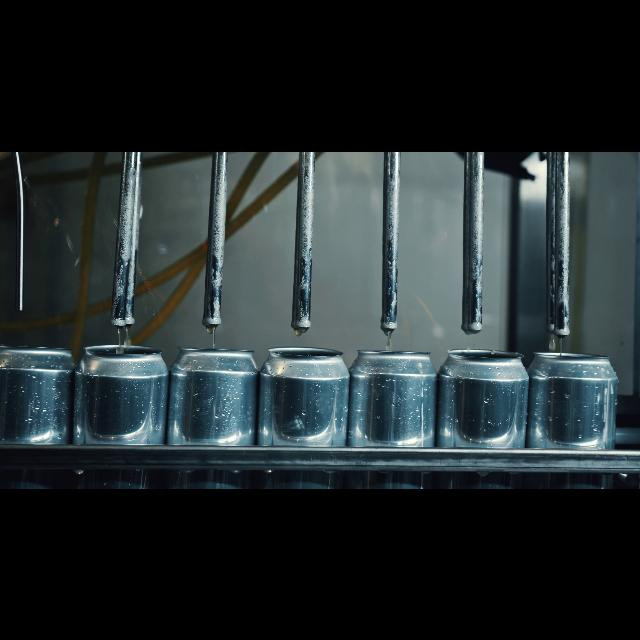empty: (79, 336, 163, 488), (351, 336, 432, 488), (174, 336, 253, 488), (538, 336, 616, 488), (265, 334, 341, 488), (448, 342, 526, 488), (3, 336, 72, 488)
